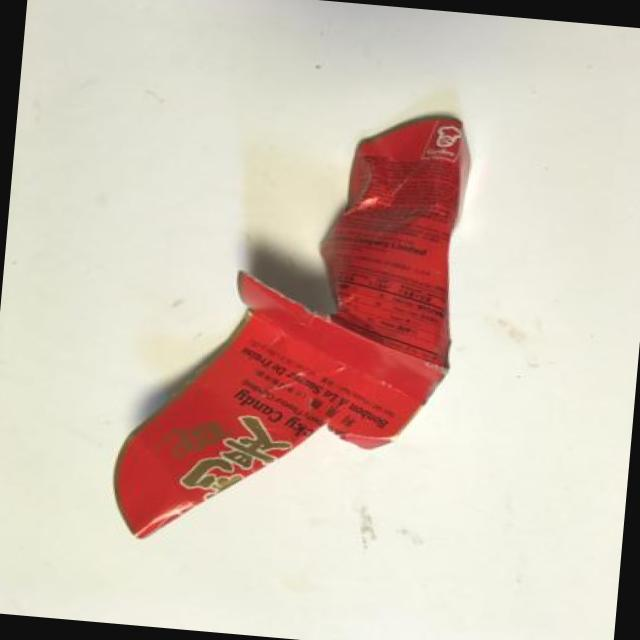paper: (82, 95, 456, 573)
